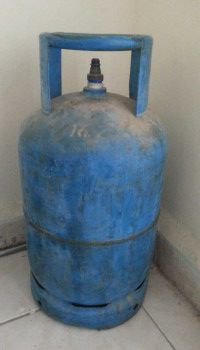blue_gas: (19, 31, 168, 329)
